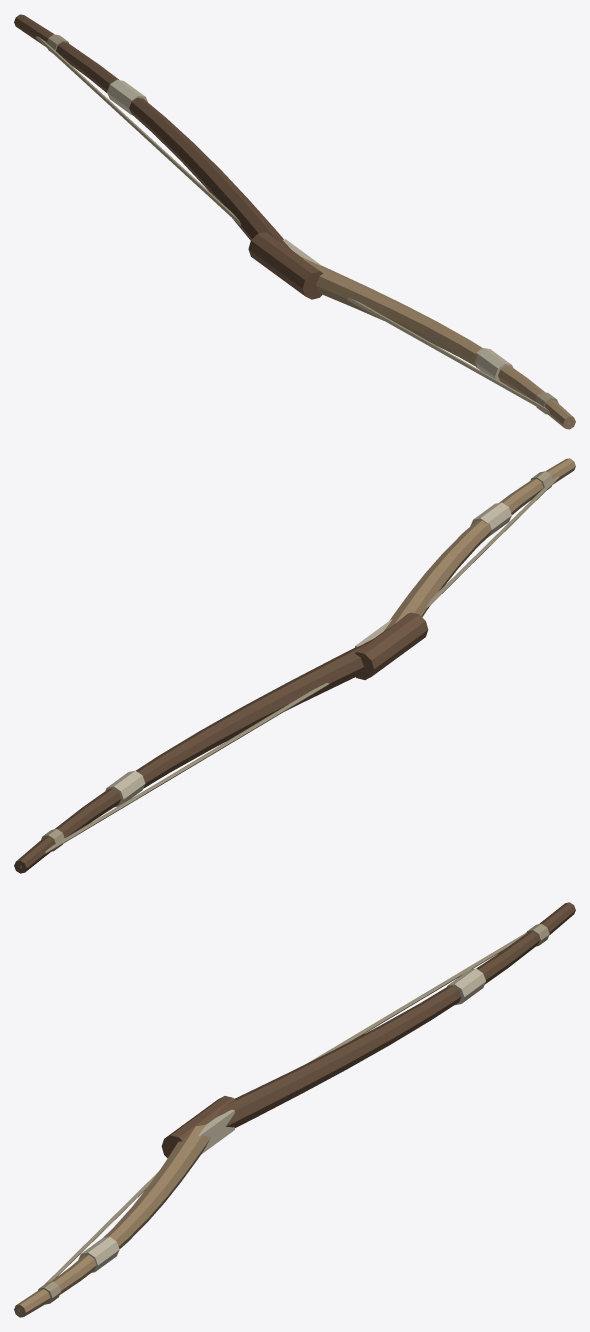
File: SM_SimpleBow.glb
3 renders of one model, top to bottom at view 1: azimuth 30°, elevation 25°; view 2: azimuth 150°, elevation 25°; view 3: azimuth 330°, elevation 25°, orthographic.
Parts seen in each view (by area): view 1: SM_SimpleBow; view 2: SM_SimpleBow; view 3: SM_SimpleBow.
Part boxes in pixels (box(x1,y1,x2,y2)): SM_SimpleBow: box(14, 14, 575, 429); SM_SimpleBow: box(14, 458, 575, 873); SM_SimpleBow: box(14, 902, 575, 1317).
Bounding box in the file's own units: 0.1189 × 0.0399 × 1.52.
